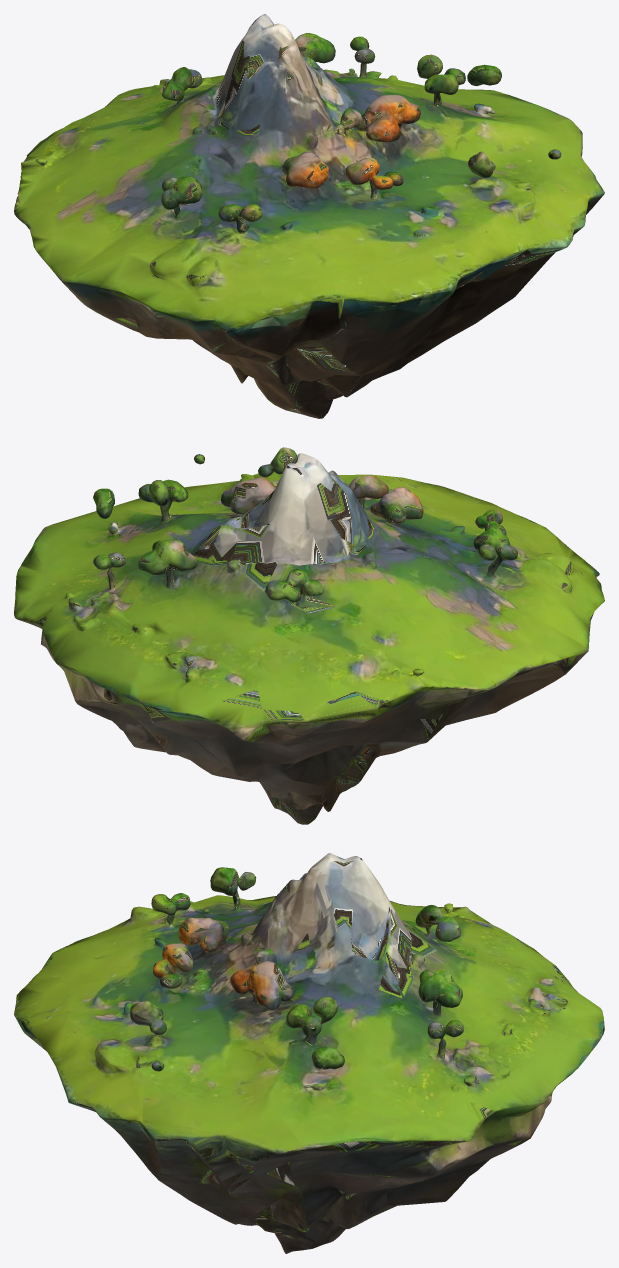
File: Magical_floating_isla.glb
3 views of the same model, one above another, from view 1: azimuth 30°, elevation 25°; view 2: azimuth 150°, elevation 25°; view 3: azimuth 270°, elevation 25° (orthographic). The views are drawn at different scales.
Visible parts, largest first — view 1: Magical_floating_isla; view 2: Magical_floating_isla; view 3: Magical_floating_isla.
Boxes of the visible parts, x1,y1,x2,y2 form: Magical_floating_isla: [14, 14, 604, 418]; Magical_floating_isla: [14, 447, 604, 824]; Magical_floating_isla: [14, 853, 604, 1253].
Size of the model in its own units: 1.99 by 1.36 by 1.89.
1 material, 1 textured.
